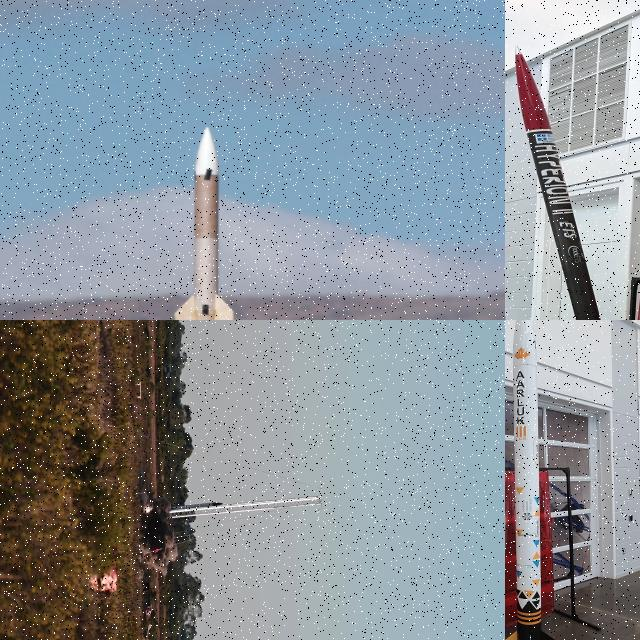Rocket: (515, 45, 601, 320), (505, 320, 556, 640), (172, 124, 238, 320), (169, 502, 223, 511)
